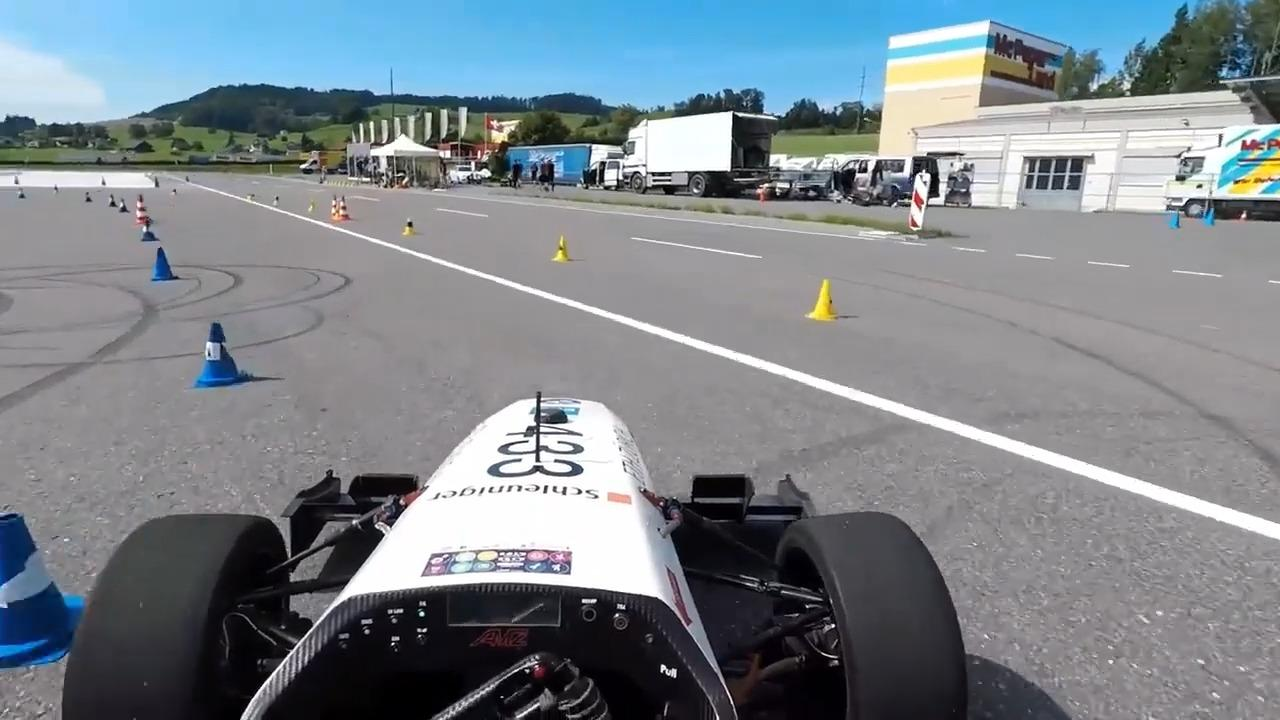blue_cone: (191, 320, 252, 389), (152, 248, 180, 283), (139, 218, 159, 243)
large_orange_cone: (134, 194, 151, 224), (329, 193, 341, 219), (338, 196, 350, 221)
yellow_cone: (804, 279, 843, 322), (551, 234, 575, 262), (402, 217, 418, 237)
